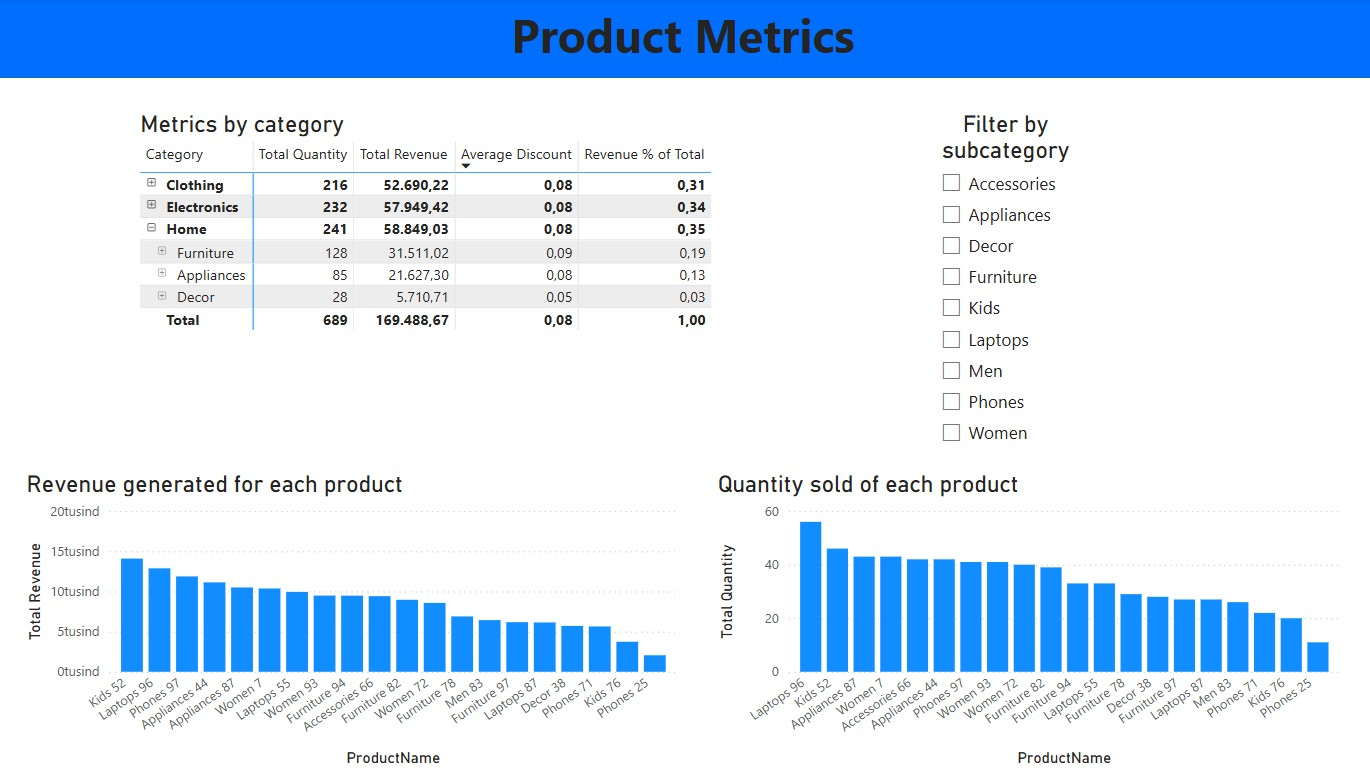

The page's visual inventory and layout, read from the dashboard file:
{"tool":"powerbi","page":{"name":"Products","canvas":[1280,720],"ordinal":1},"visuals":[{"type":"clusteredColumnChart","title":"Revenue generated for each product","fields":{"Category":["Products.ProductName"],"Y":["Sales.Total Revenue"]},"box":[24.4,439.5,615.1,280.2],"z":0},{"type":"clusteredColumnChart","title":"Quantity sold of each product","fields":{"Y":["Sales.Total Quantity"],"Category":["Products.ProductName"]},"box":[667.4,439.5,588.4,280.2],"z":1000},{"type":"pivotTable","title":"Metrics by category","fields":{"Rows":["Products.Category Hierarki.Category","Products.Category Hierarki.Subcategory","Products.Category Hierarki.ProductName"],"Values":["Sales.Total Quantity","Sales.Total Revenue","Sales.Average Discount","Sales.Revenue % of Total"]},"box":[130.2,104.7,561.6,322.1],"z":2000},{"type":"slicer","title":"Filter by subcategory","fields":{"Values":["Products.Subcategory"]},"box":[868.6,104.7,143,322.1],"z":3000},{"type":"shape","box":[0,0,1280.2,74.4],"z":3002},{"type":"textbox","box":[0,0,1280.2,74.4],"z":3003}]}

Visuals, with their boxes in screenshot pixels (x1, y1, x2, y2), scaled from the page's 1280x720 canvas onto the 1370x770 screenshot:
"Revenue generated for each product" clusteredColumnChart: select_region(26, 470, 684, 769)
"Quantity sold of each product" clusteredColumnChart: select_region(714, 470, 1344, 769)
"Metrics by category" pivotTable: select_region(139, 112, 740, 456)
"Filter by subcategory" slicer: select_region(930, 112, 1083, 456)
shape: select_region(0, 0, 1369, 80)
textbox: select_region(0, 0, 1369, 80)
